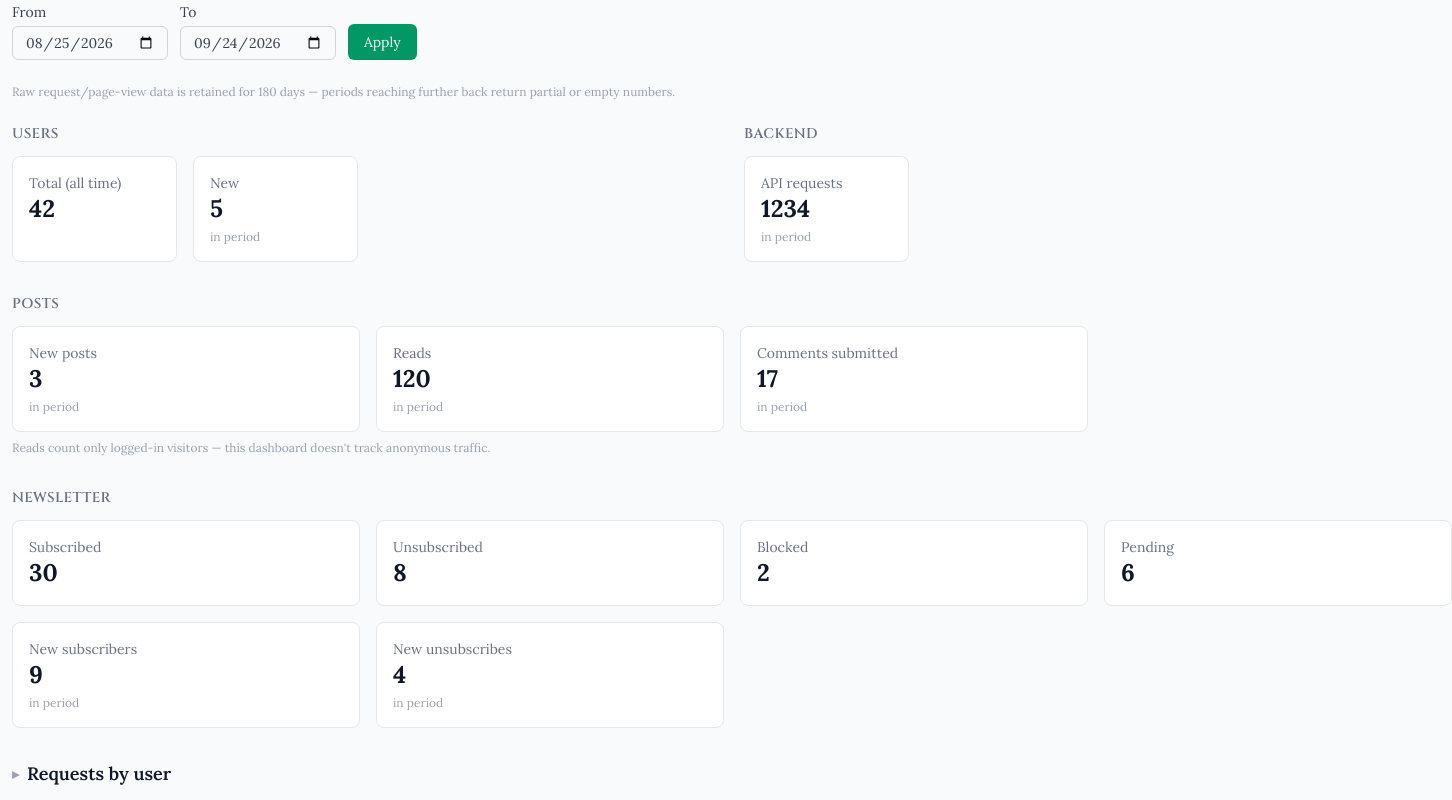
Scenario: AnalyticsPage › shows an empty state when no requests were logged
(page scrolled)
expect the text "42" is shown: met, box [29,193,55,224]
Click the button "▸ Requests by user" at (92, 774), box [12,760,171,788]
(page scrolled)
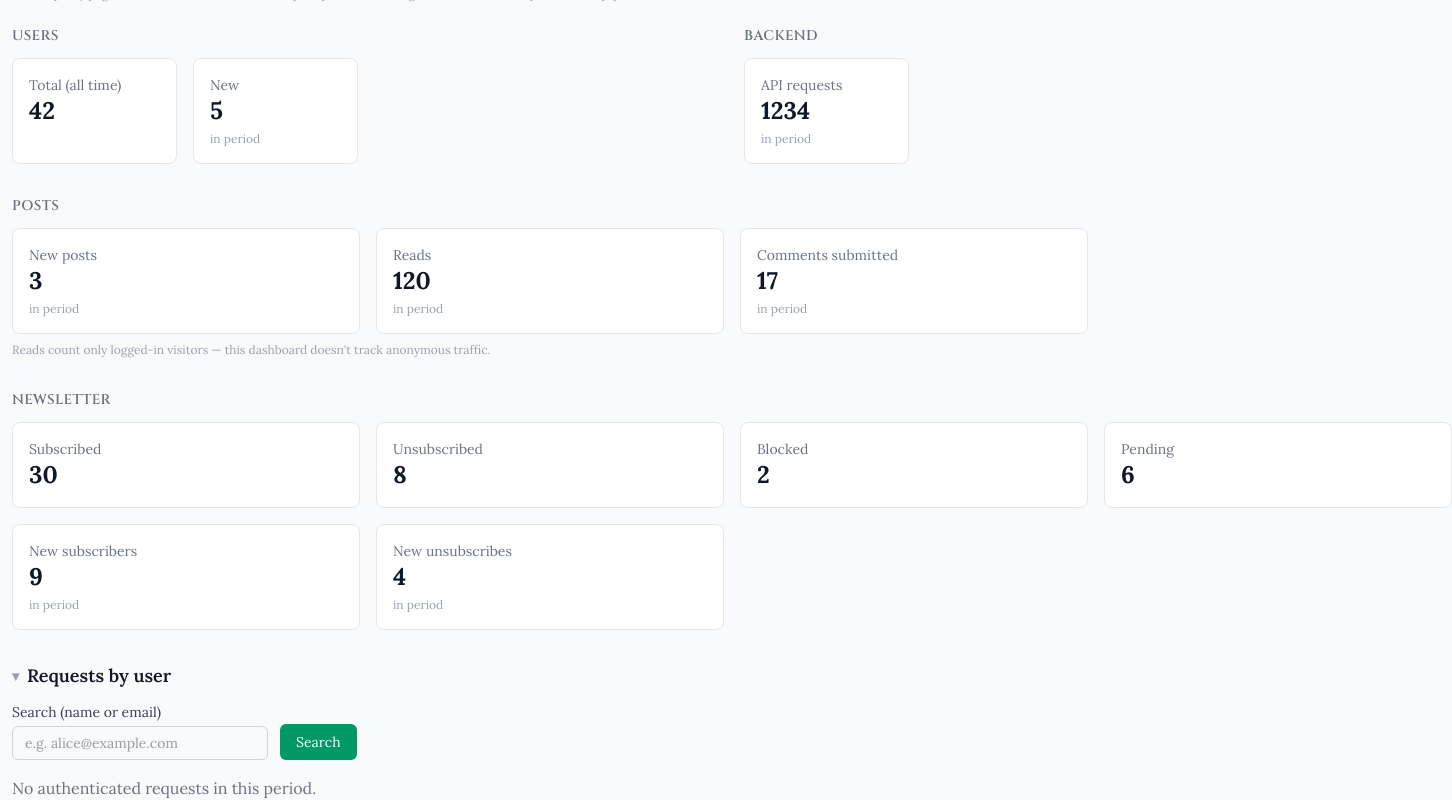
expect the text "No authenticated requests in this period." is shown: met, box [12,778,316,798]
